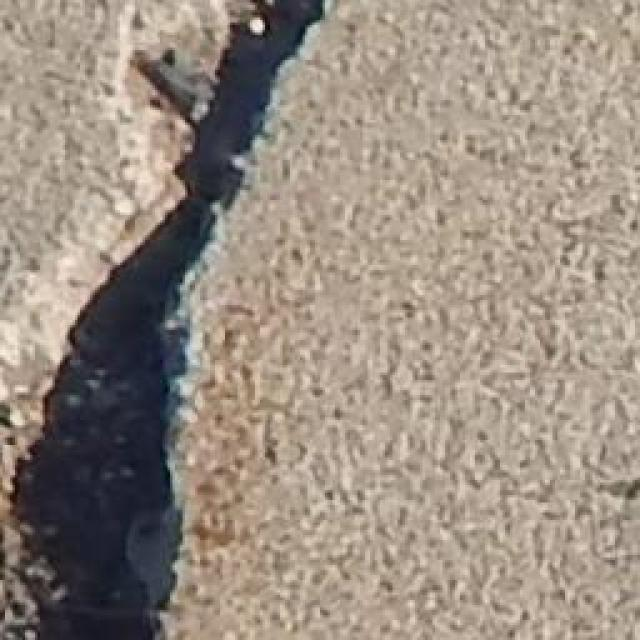concrete-crack: (0, 0, 329, 640)
